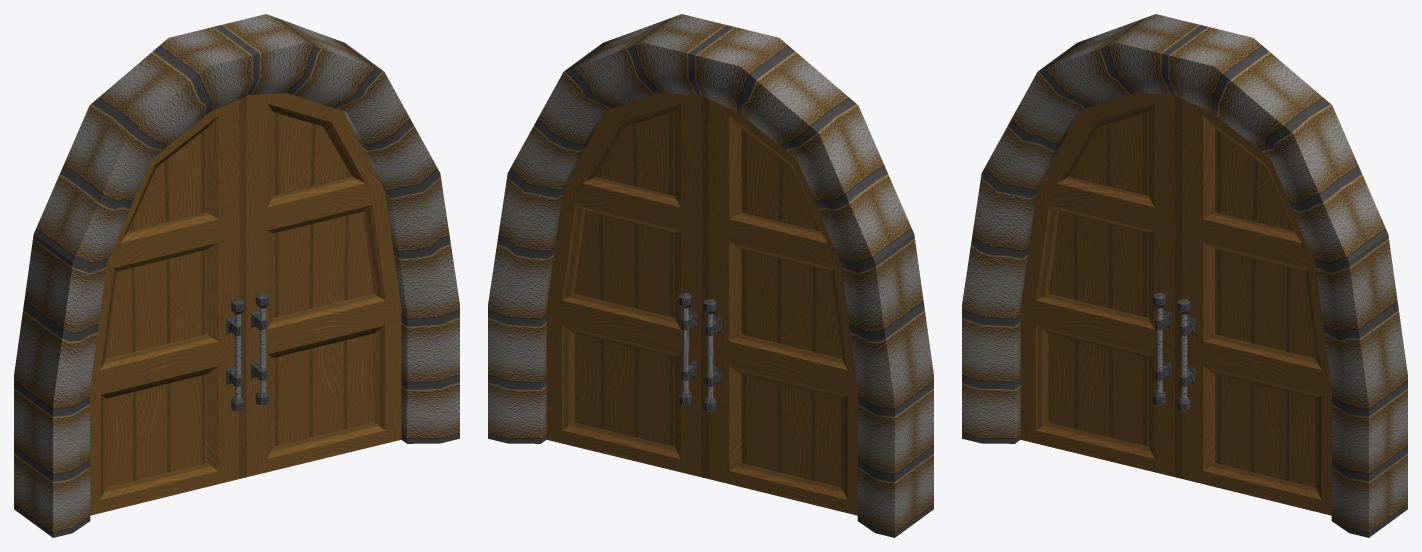
The model's file is MainDoor_all.fbx.
The picture shows the model from 3 angles, left to right: view 1: azimuth 30°, elevation 25°; view 2: azimuth 150°, elevation 25°; view 3: azimuth 330°, elevation 25°; orthographic projection.
Visible parts, largest first — view 1: arch, door1, door2; view 2: arch, door1, door2; view 3: arch, door2, door1.
Boxes of the visible parts, x1,y1,x2,y2 form: arch: [14, 14, 459, 537]; door1: [243, 93, 401, 477]; door2: [90, 97, 244, 515]; arch: [488, 14, 933, 537]; door1: [546, 93, 704, 477]; door2: [703, 97, 857, 515]; arch: [962, 14, 1407, 537]; door2: [1020, 93, 1178, 477]; door1: [1177, 97, 1331, 515].
Bounding box in the file's own units: 6 × 6.11 × 1.
Materials: 1 (1 with a texture image).
